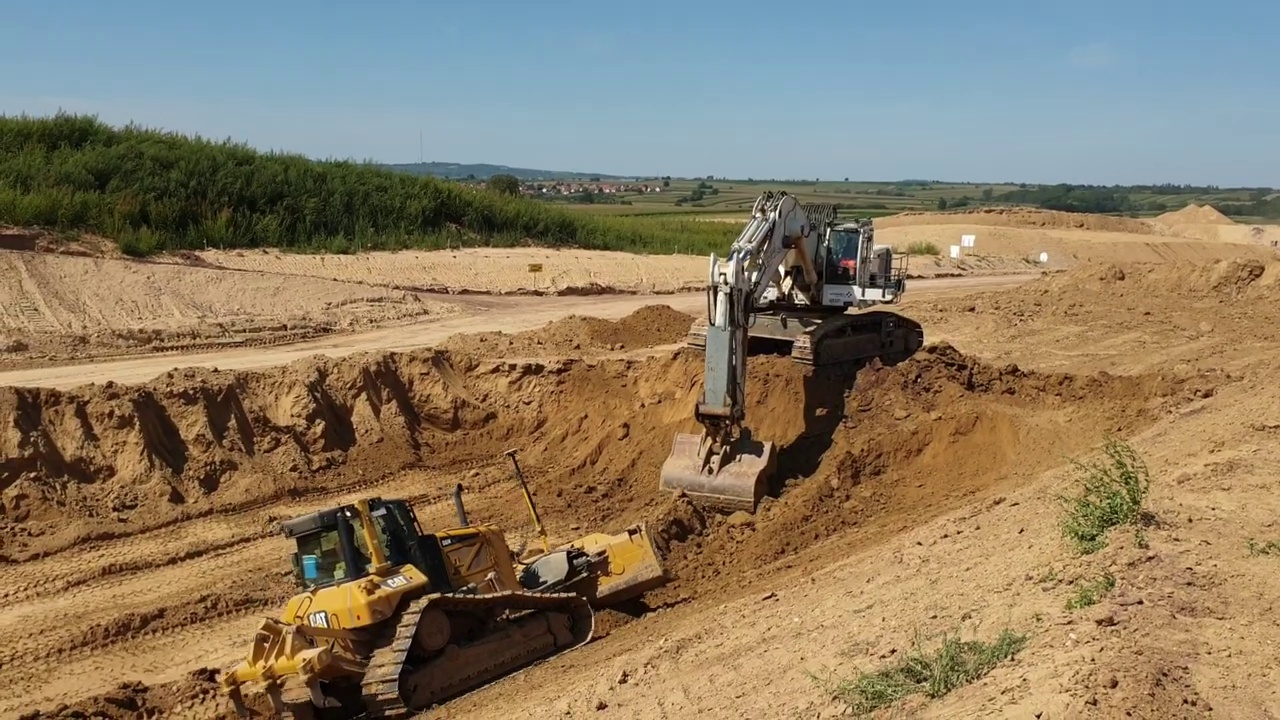bulldozer: (222, 448, 669, 720)
excavator: (657, 188, 925, 520)
